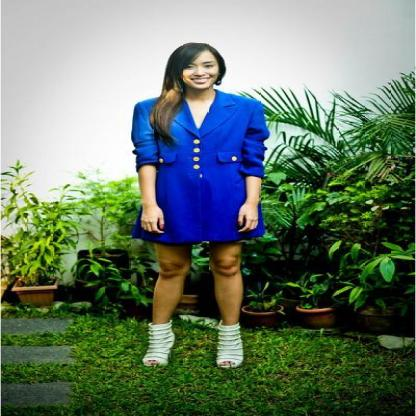dress: (131, 92, 277, 246)
shoe: (142, 320, 242, 366)
